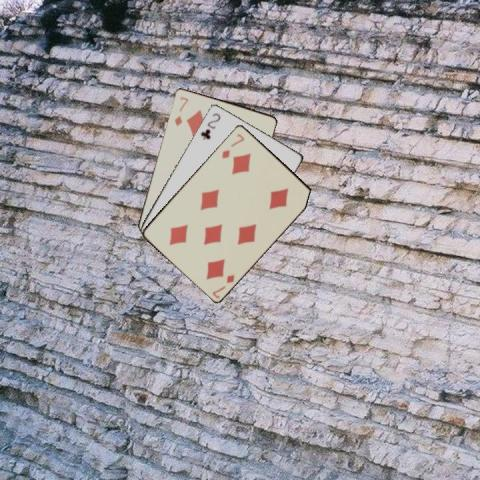2c: (197, 110, 222, 141)
7d: (219, 131, 246, 160), (209, 272, 236, 300), (172, 93, 190, 128)
